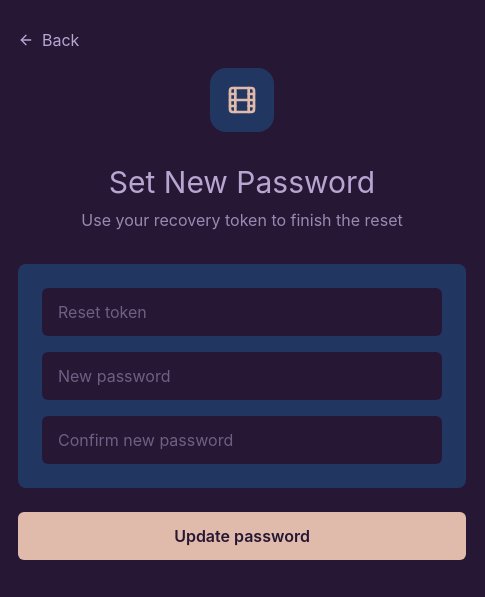
Test: ResetPasswordPage › shows the backend error when reset fails
The width and height of the screenshot is (485, 597).
Type "bad-token" into the field with placeholder "Reset token" at (242, 312), box [42, 288, 442, 336]
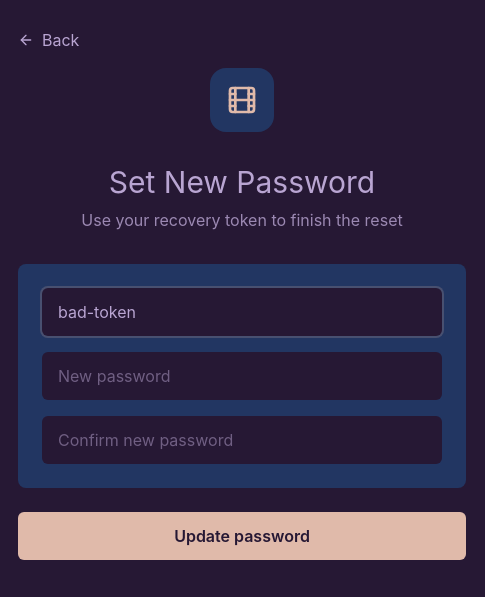
Type "password123" into the password field with placeholder "New password" at (242, 376), box [42, 352, 442, 400]
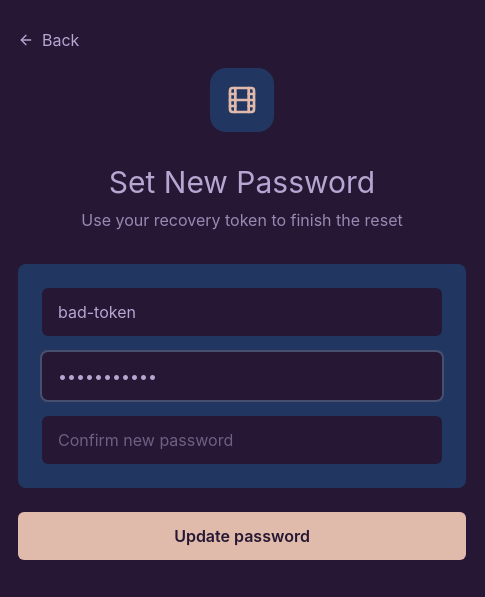
Type "password123" into the password field with placeholder "Confirm new password" at (242, 440), box [42, 416, 442, 464]
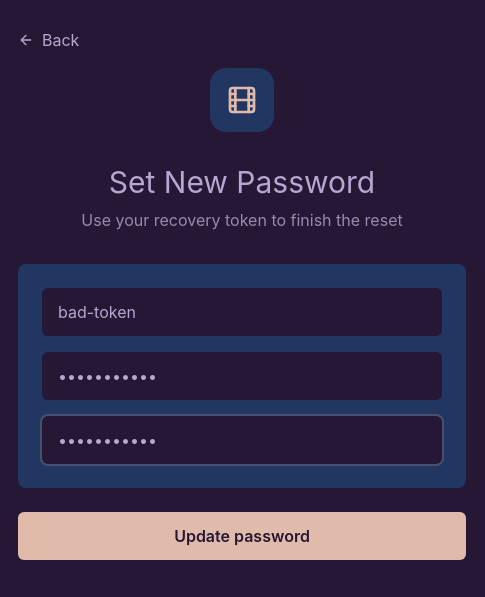
Click the button "Update password" at (242, 536), box [18, 512, 466, 560]
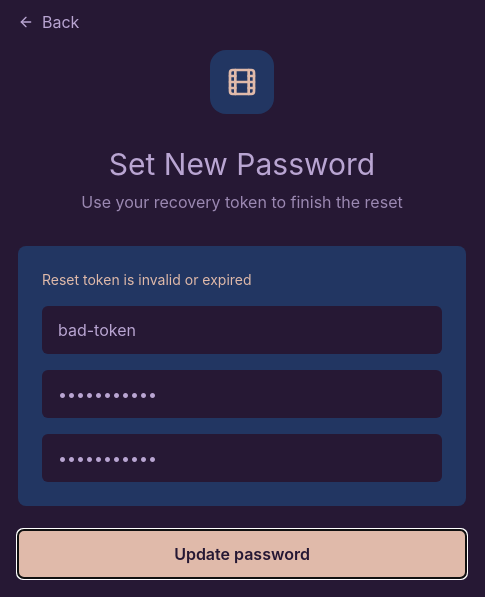
expect the message reads "Reset token is invalid or expired": met, box [42, 271, 252, 288]
